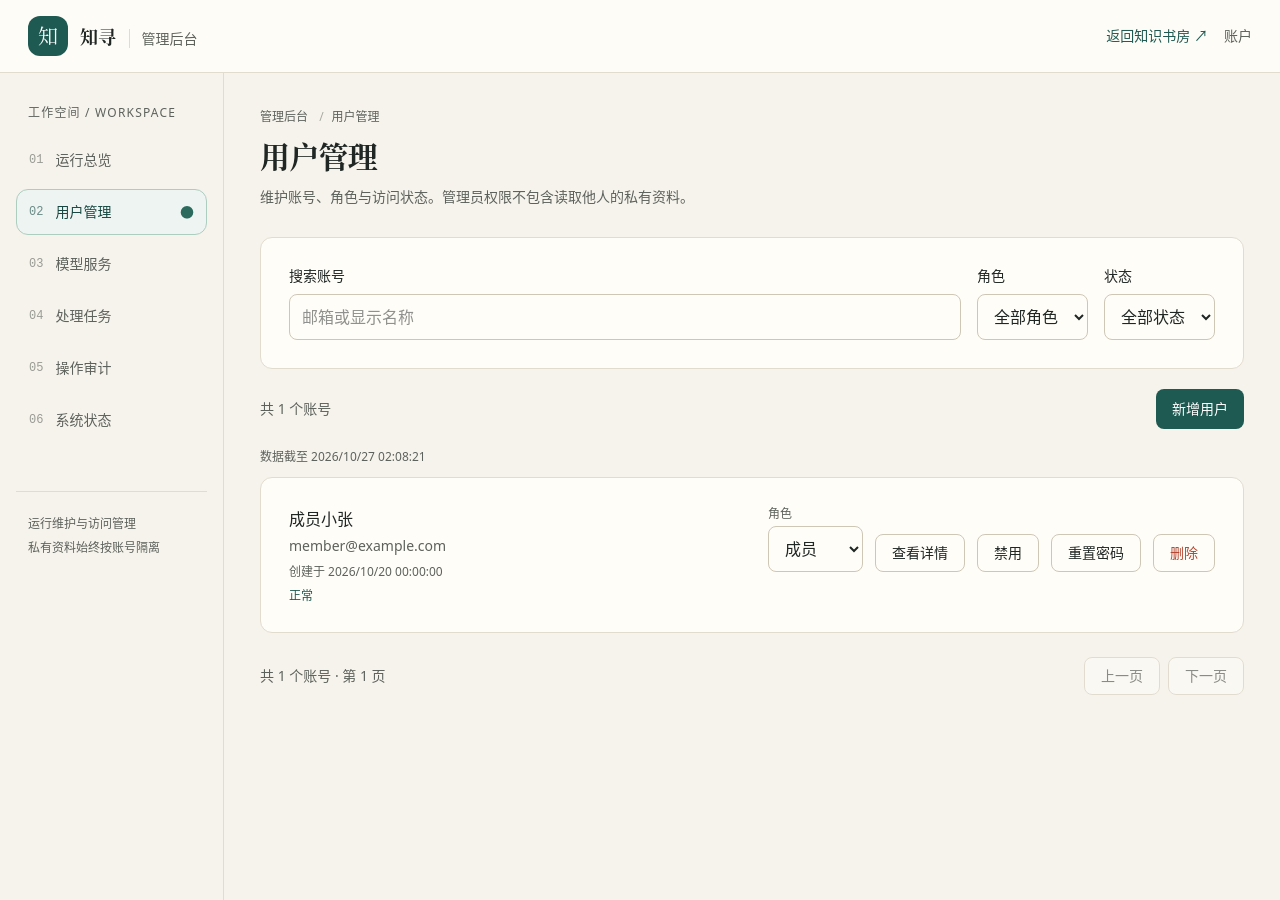
筛选下创建反馈与重复提交保护
Select "只读" in the dropdown with test id "admin-role-filter" at (1032, 317), box [977,294,1088,340]
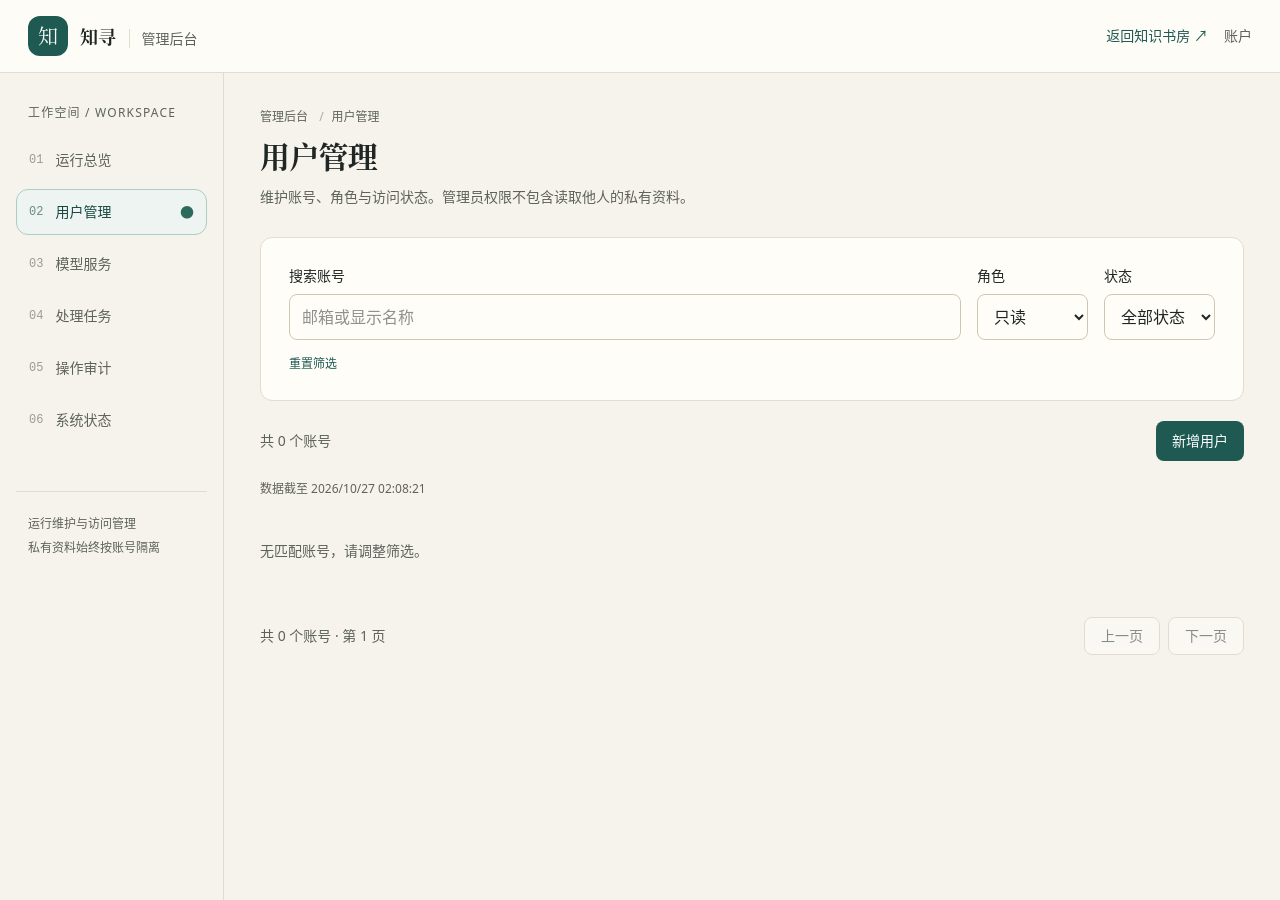
Click the button with test id "admin-create-user" at (1200, 441), box [1156,421,1244,461]
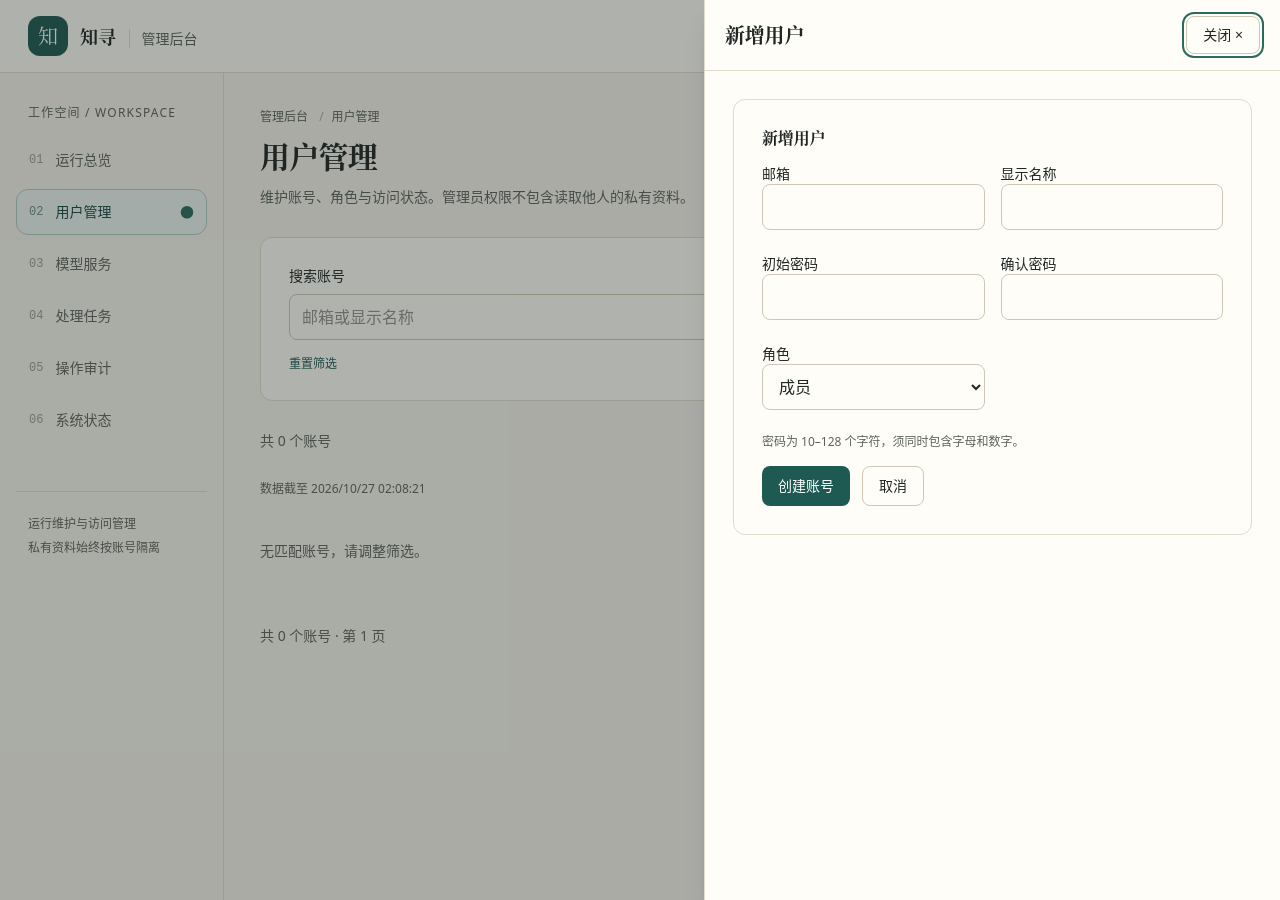
Type "new-member@example.com" into the field named "email" at (873, 207), box [762,184,984,230]
Type "新成员" into the field named "display_name" at (1112, 207), box [1000,184,1223,230]
Type "Secure-Password-2026" into the password field named "password" at (873, 297), box [762,274,984,320]
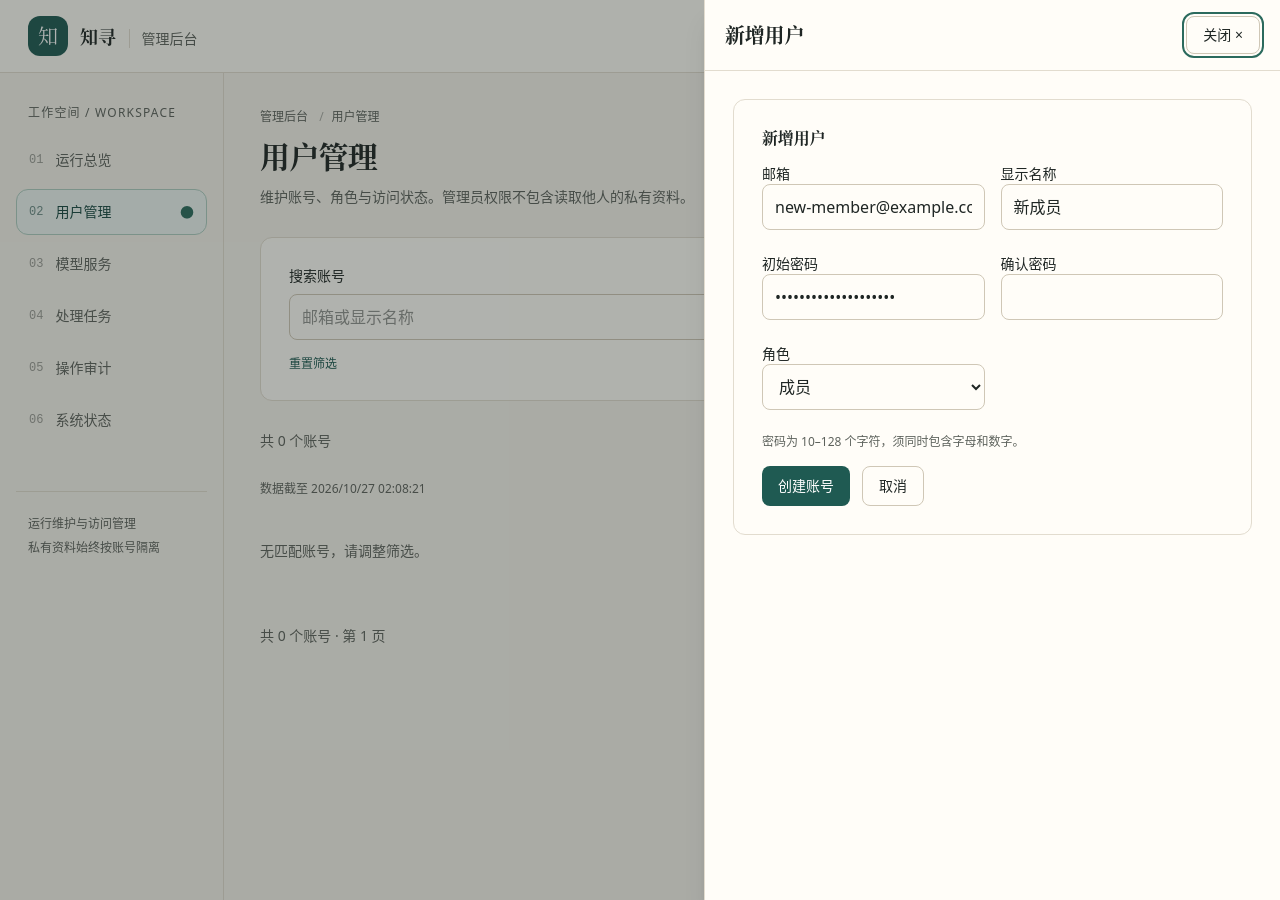
Type "Secure-Password-2026" into the password field named "confirm_password" at (1112, 297), box [1000,274,1223,320]
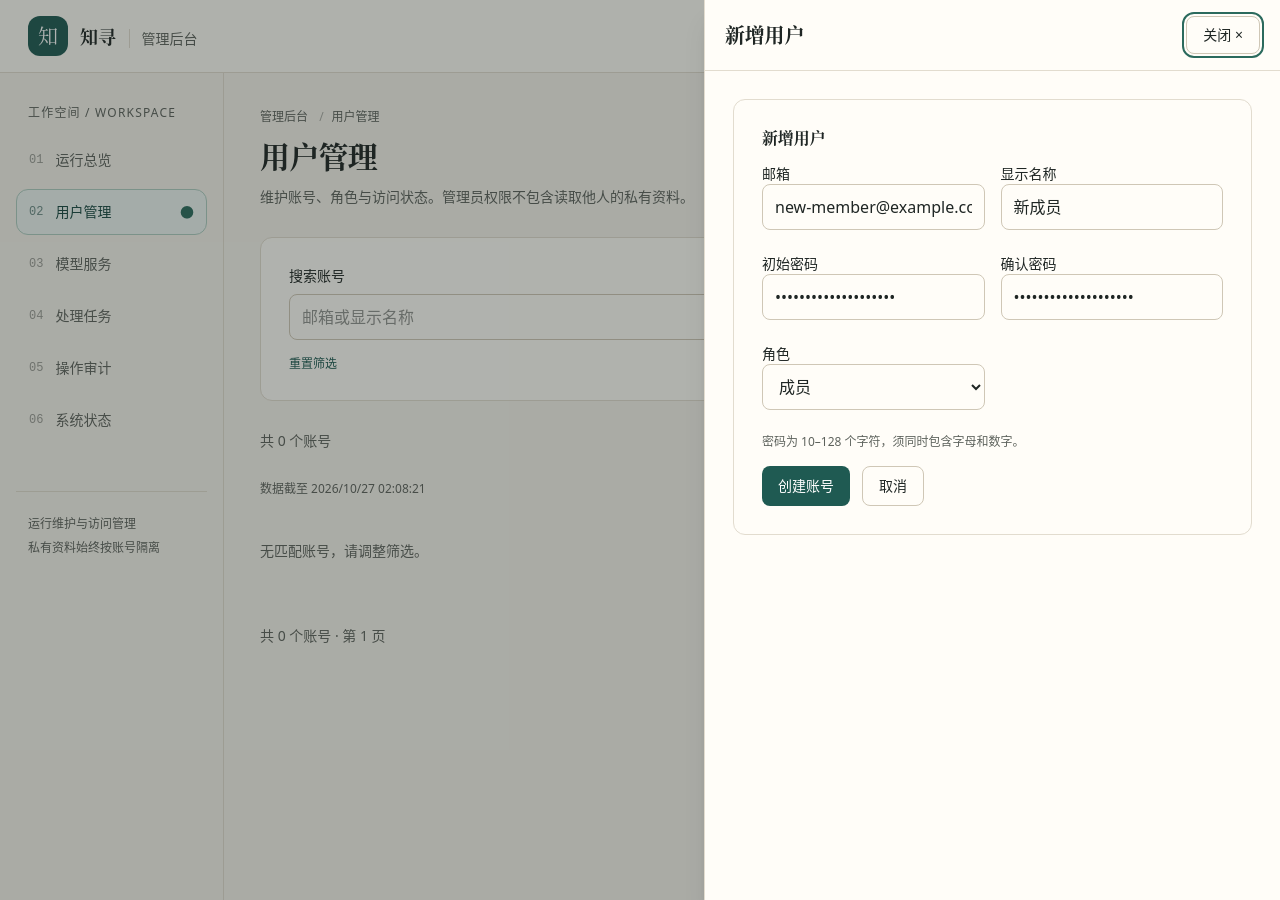
Submit the form with test id "admin-create-form", box [733,99,1252,535]
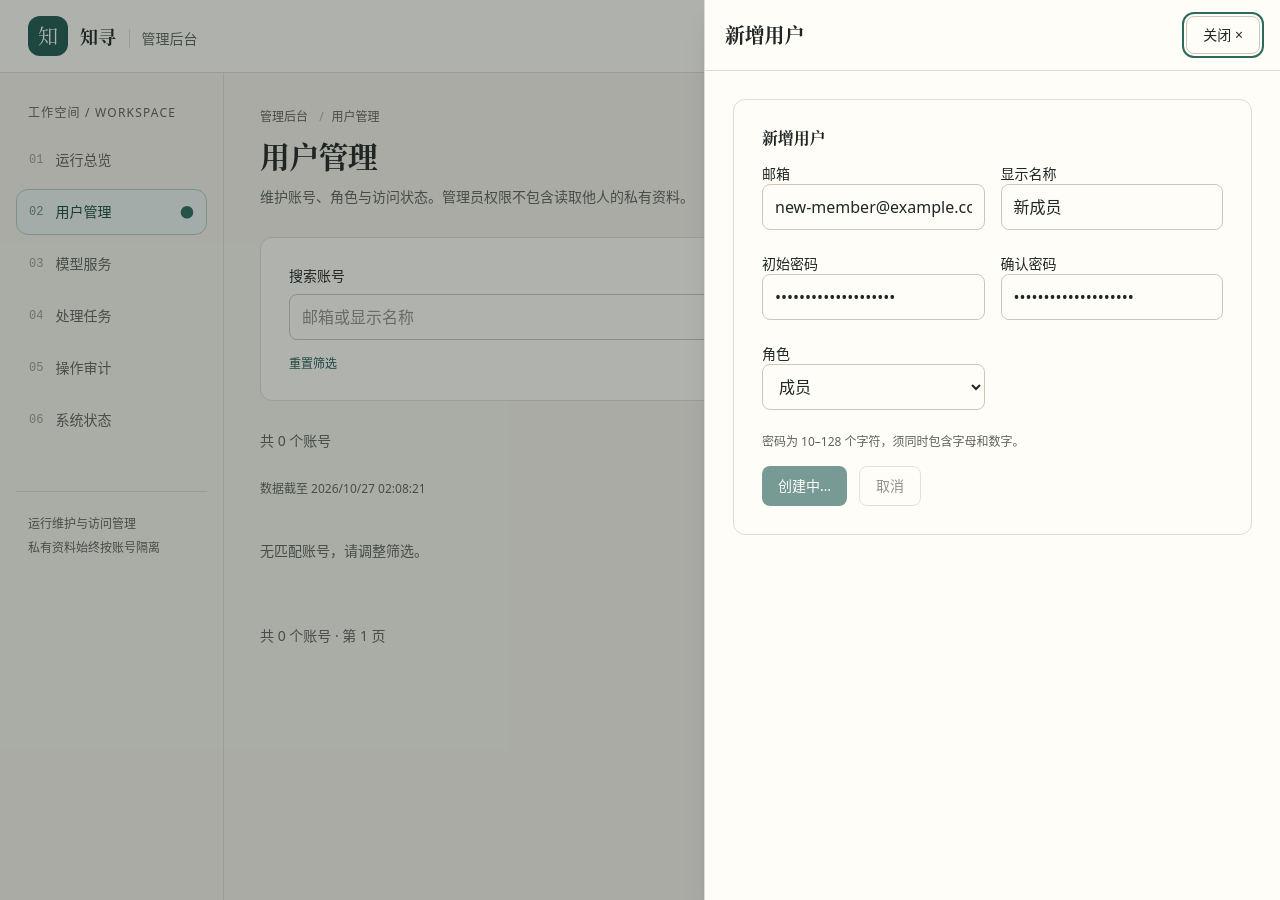
Submit the form with test id "admin-create-form", box [733,99,1252,535]
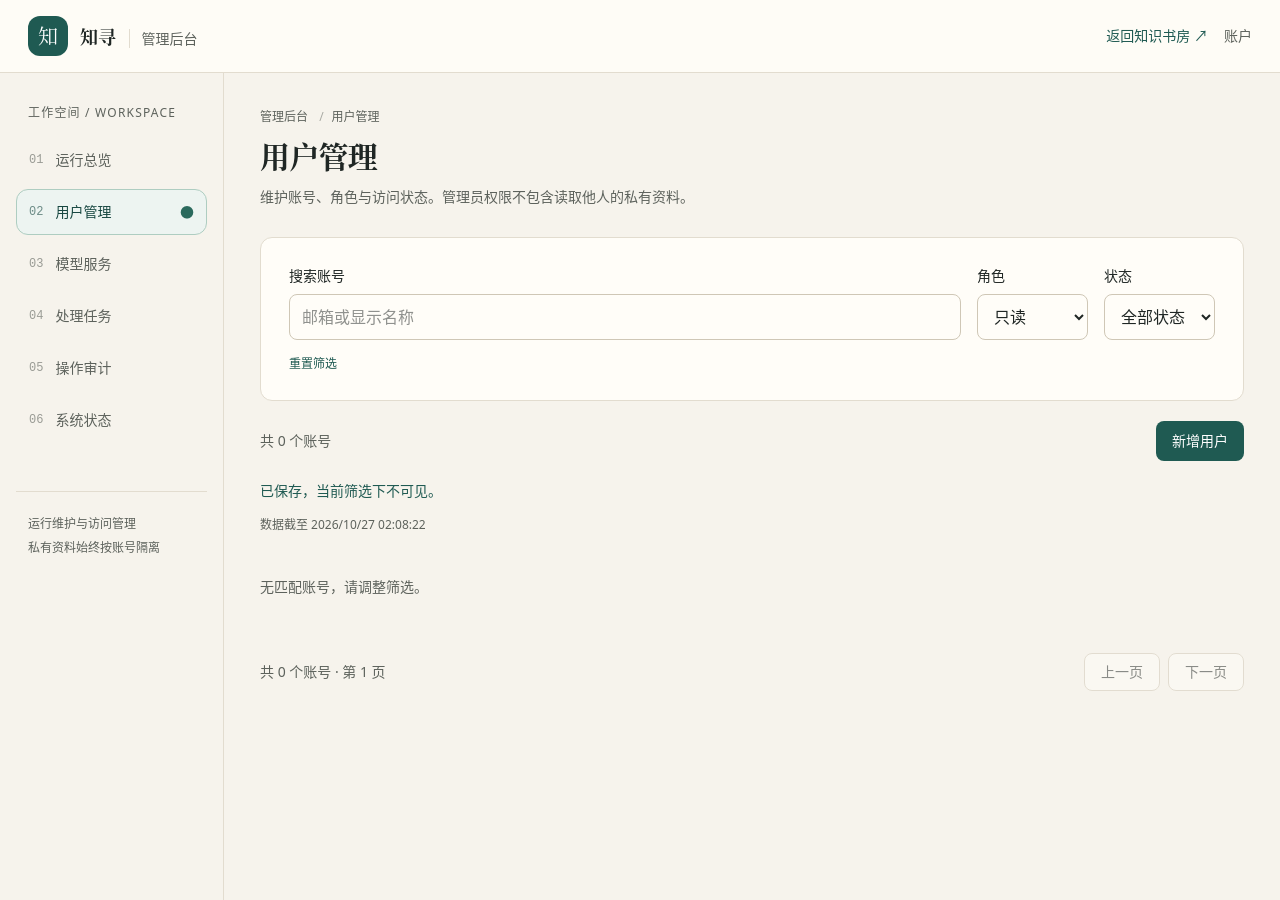
Result: the text "已保存，当前筛选下不可见" is shown at [260,481,442,500]
